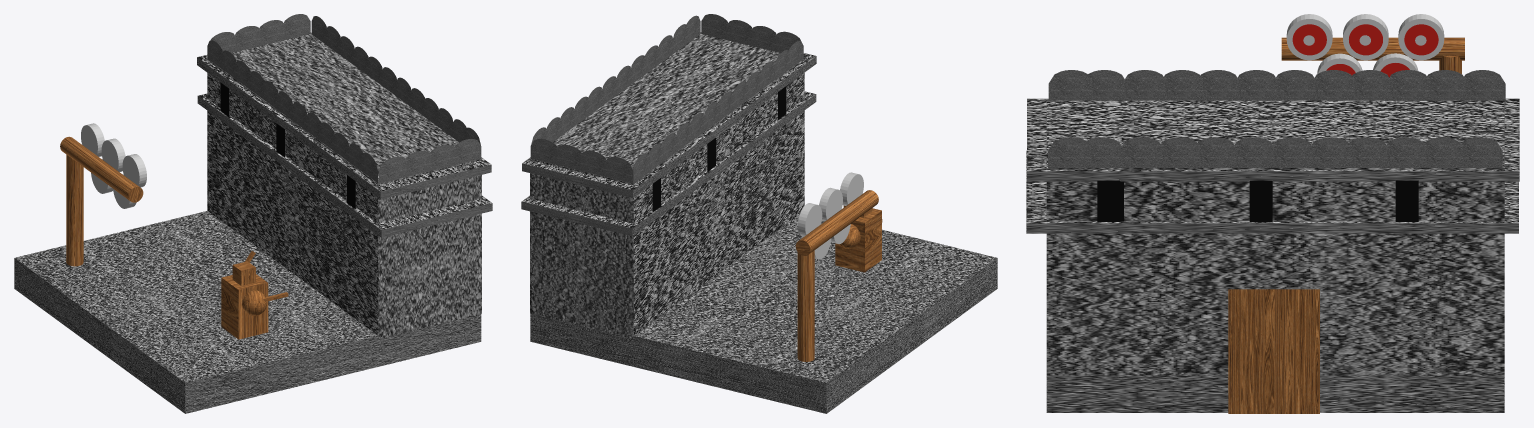
The model's file is HittitesArmyBuild.fbx.
The picture shows the model from 3 angles, left to right: view 1: azimuth 30°, elevation 25°; view 2: azimuth 150°, elevation 25°; view 3: azimuth 270°, elevation 25°; orthographic projection. The views are drawn at different scales.
Visible parts, largest first — view 1: Cube.001, Cube, Cube.002, Cube.003, Cube.004, Cylinder, Cylinder.001, Plane.008, Plane.005, Cylinder.004, Plane, Plane.006 (+7 smaller); view 2: Cube.001, Cube, Cube.002, Cube.003, Cylinder, Cube.004, Cylinder.001, Plane.008, Plane.003, Cylinder.017, Plane.007, Plane.001 (+5 smaller); view 3: Cube.001, Cube, Plane.035, Cube.002, Cube.003, Cylinder.001, Plane.021, Plane.012, Plane.027, Plane.022, Plane.033, Plane.018 (+29 smaller).
Part boxes in pixels (x1,y1,x2,y2): Cube.001: (207, 34, 481, 338); Cube: (14, 211, 481, 413); Cube.002: (197, 32, 491, 199); Cube.003: (197, 93, 492, 237); Cube.004: (221, 274, 268, 339); Cylinder: (66, 154, 83, 266); Cylinder.001: (60, 136, 143, 202); Plane.008: (451, 139, 481, 165); Plane.005: (378, 156, 408, 183); Cylinder.004: (122, 154, 146, 187); Plane: (281, 14, 310, 40); Plane.006: (403, 150, 432, 177); Cube.001: (530, 34, 804, 338); Cube: (530, 214, 997, 413); Cube.002: (522, 32, 816, 197); Cube.003: (521, 91, 816, 236); Cylinder: (797, 250, 814, 361); Cube.004: (835, 208, 881, 272); Cylinder.001: (795, 190, 878, 255); Plane.008: (701, 14, 730, 40); Plane.003: (604, 156, 633, 183); Cylinder.017: (798, 203, 822, 236); Plane.007: (726, 20, 755, 46); Plane.001: (555, 145, 584, 171); Cube.001: (1046, 100, 1504, 375); Cube: (1046, 375, 1504, 412); Plane.035: (1228, 289, 1319, 413); Cube.002: (1027, 98, 1519, 181); Cube.003: (1026, 150, 1518, 233); Cylinder.001: (1281, 37, 1464, 60); Plane.021: (1048, 70, 1094, 100); Plane.012: (1422, 70, 1468, 100); Plane.027: (1156, 137, 1202, 167); Plane.022: (1048, 137, 1093, 167); Plane.033: (1456, 137, 1502, 167); Plane.018: (1195, 70, 1240, 100).
Size of the model in its own units: 1014 by 664 by 1076.
5 materials, 2 textured.
